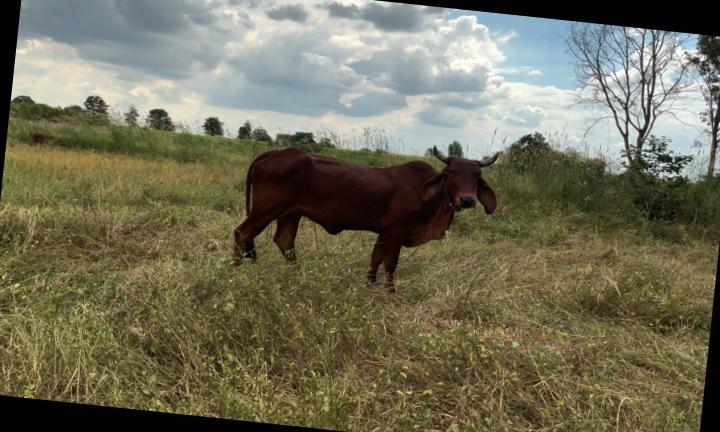Brahman: (234, 147, 497, 288)
